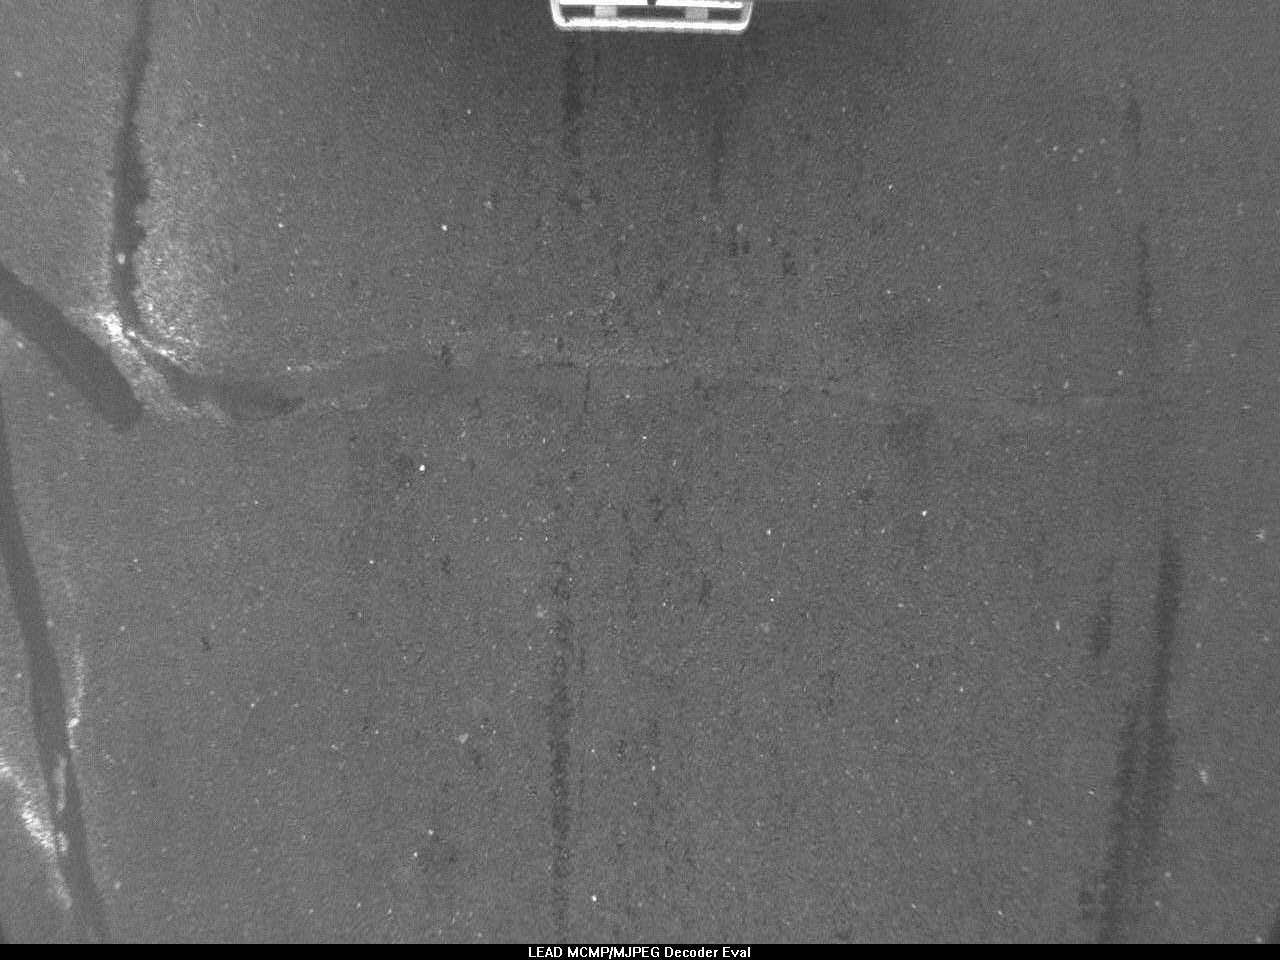sealed: (2, 440, 114, 946), (2, 261, 127, 432)
